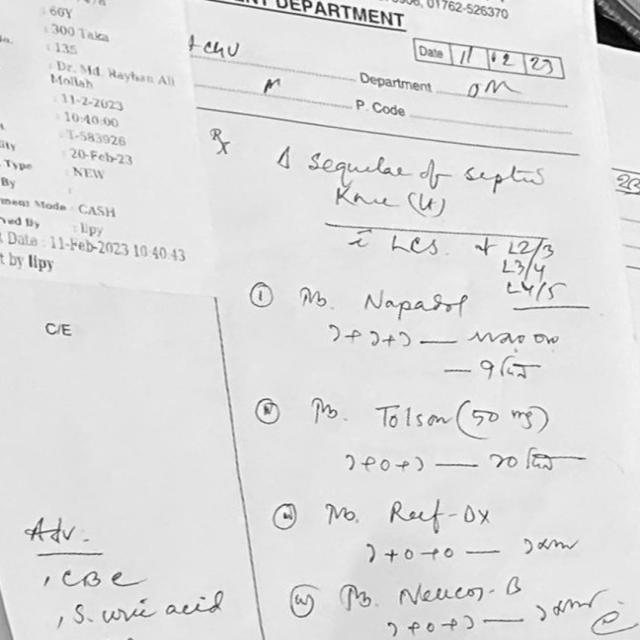Napadol: (354, 287, 479, 321)
Neucos B: (389, 572, 528, 607)
Reef DX: (383, 494, 494, 529)
Tolson: (367, 398, 455, 441)
